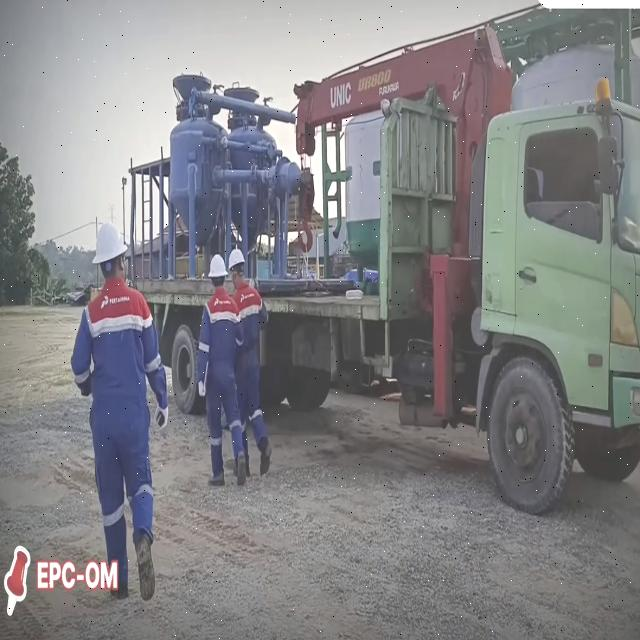Gloves: (154, 404, 169, 430)
Hardhat: (89, 228, 127, 264), (224, 245, 246, 271), (207, 250, 227, 276)
Overall Suit: (70, 268, 172, 566), (193, 278, 239, 455), (237, 278, 264, 449)
Safety Boots: (135, 536, 155, 601), (232, 455, 248, 487), (210, 463, 225, 489), (260, 446, 272, 476)
